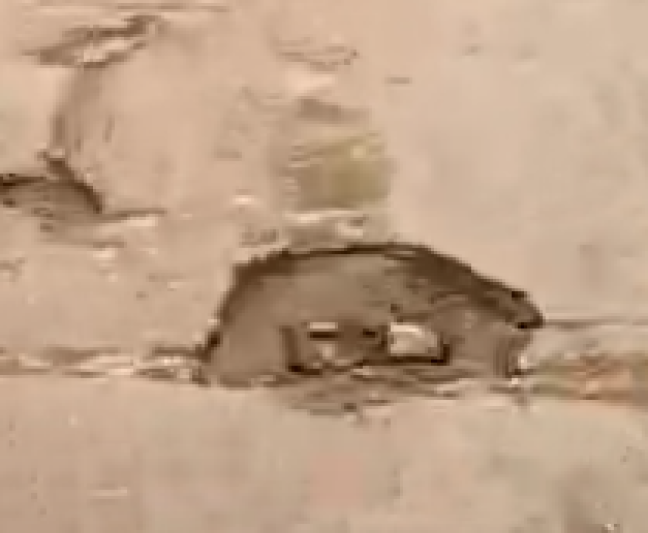Berlubang: (177, 228, 562, 421), (1, 150, 145, 242), (9, 11, 165, 77)
